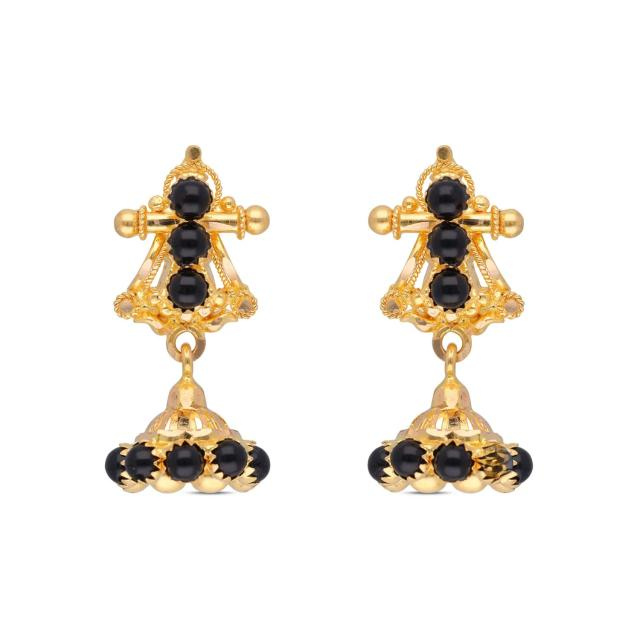missing gem: (480, 444, 513, 482)
